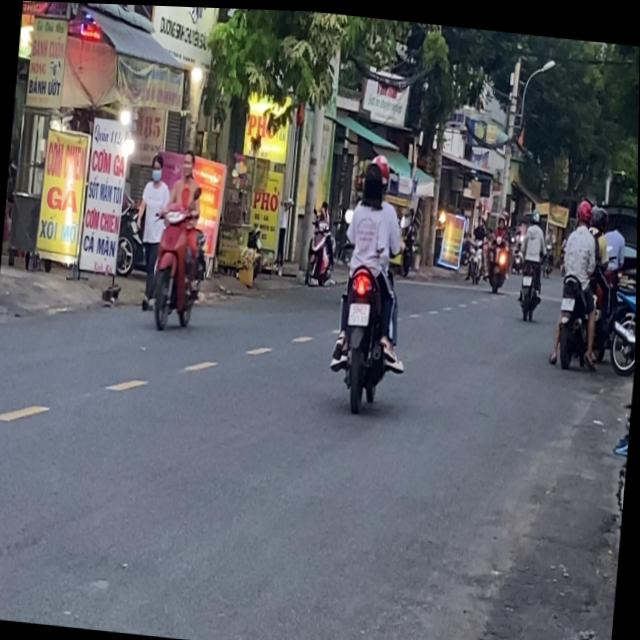helmet: (359, 154, 386, 202), (366, 149, 390, 190), (574, 191, 592, 221)
licenseplate: (324, 146, 417, 410), (143, 142, 214, 331), (548, 190, 606, 367)
motorcyclist: (179, 146, 196, 175)
nohelmet: (347, 298, 369, 321), (561, 290, 574, 305)
